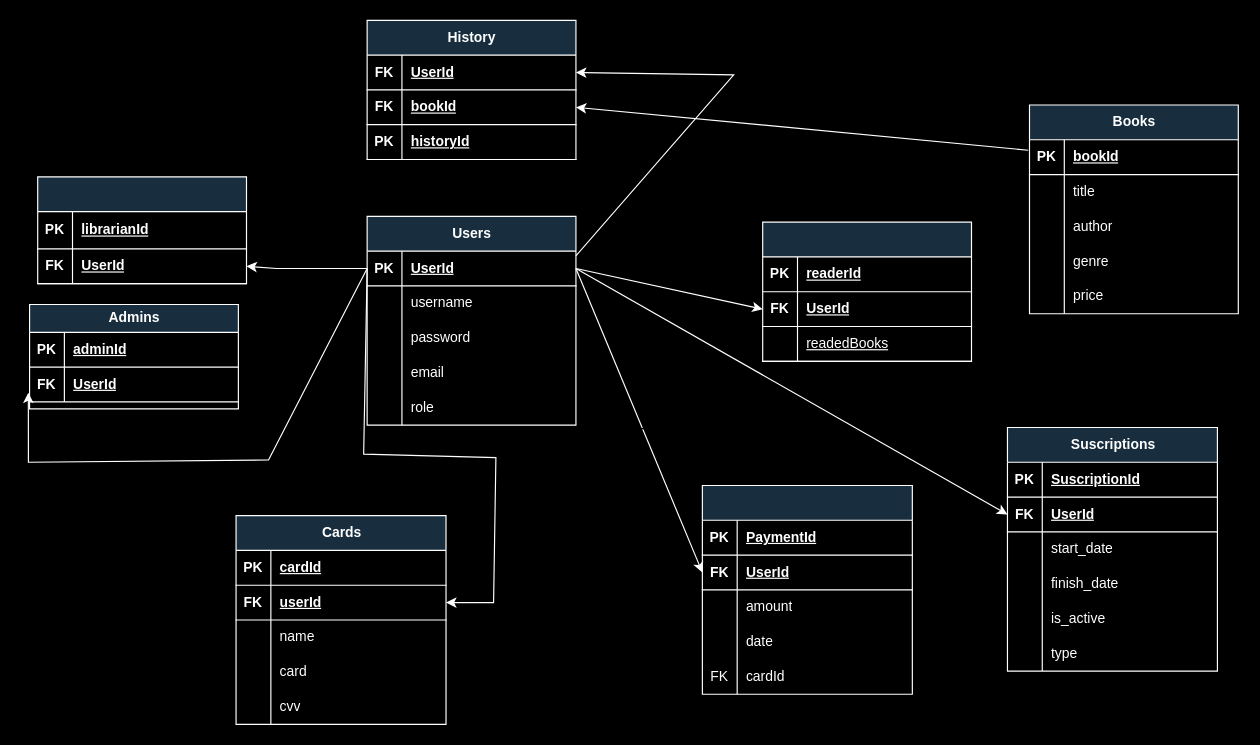
Image size: 1260x745. Some labels were removed from this diagram. The box of each missing label's shape, as (x1, y1, x2, y2) in pixels:
Librarians: (37, 176, 246, 284)
Payments: (701, 484, 912, 694)
Readers: (762, 221, 971, 361)
